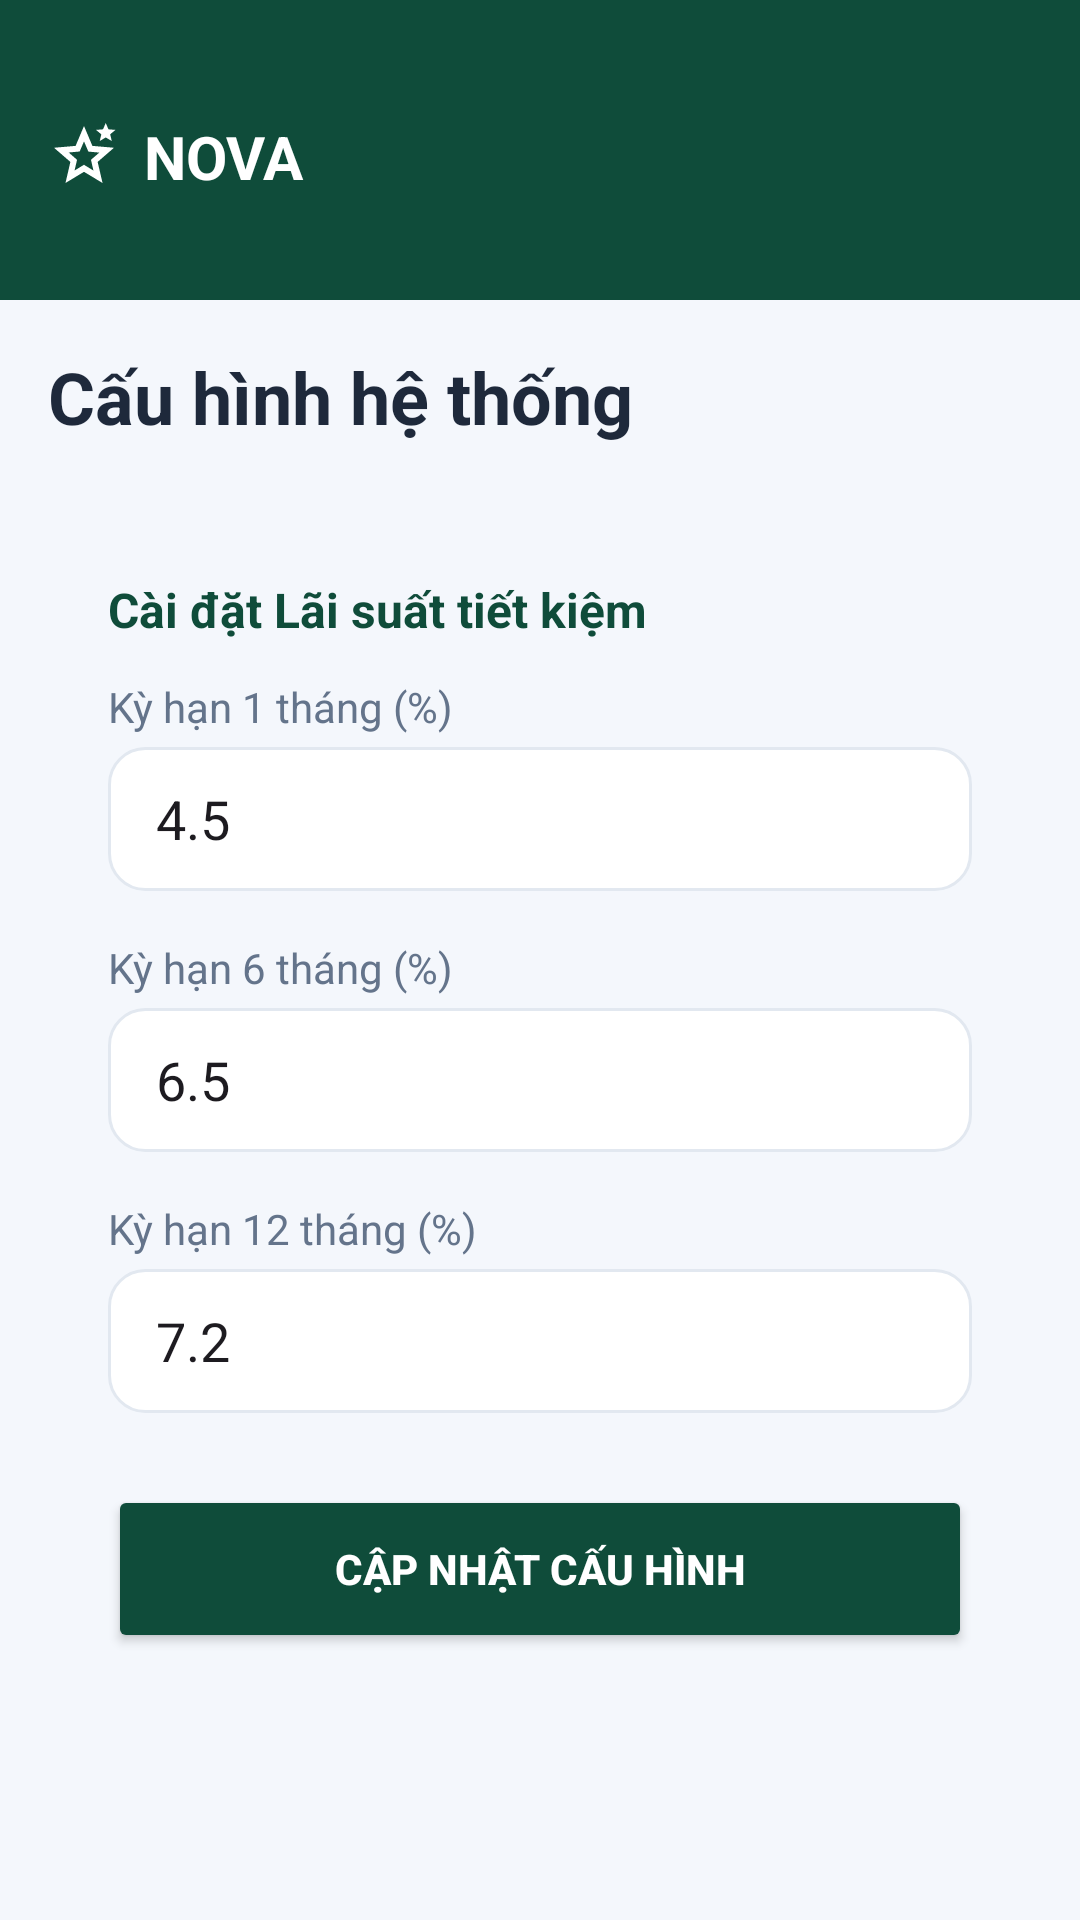

Where icons sit on this 1080px×1920px app screen, as (x1, y1, x2, y2):
stars: (54, 123, 115, 183)
